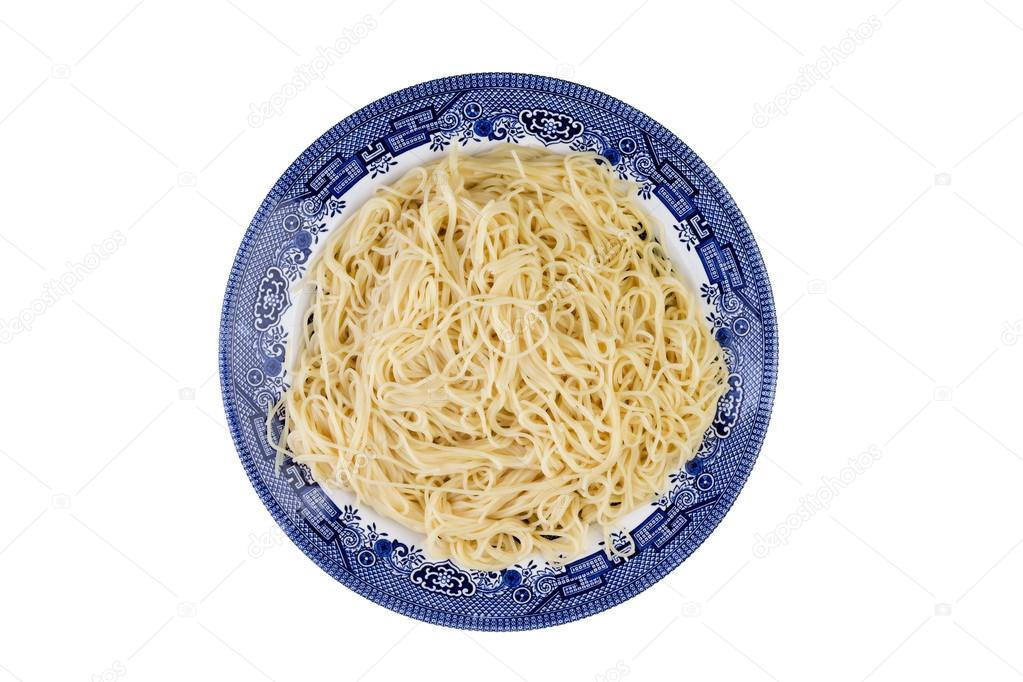plain spaghetti: (327, 189, 688, 523)
